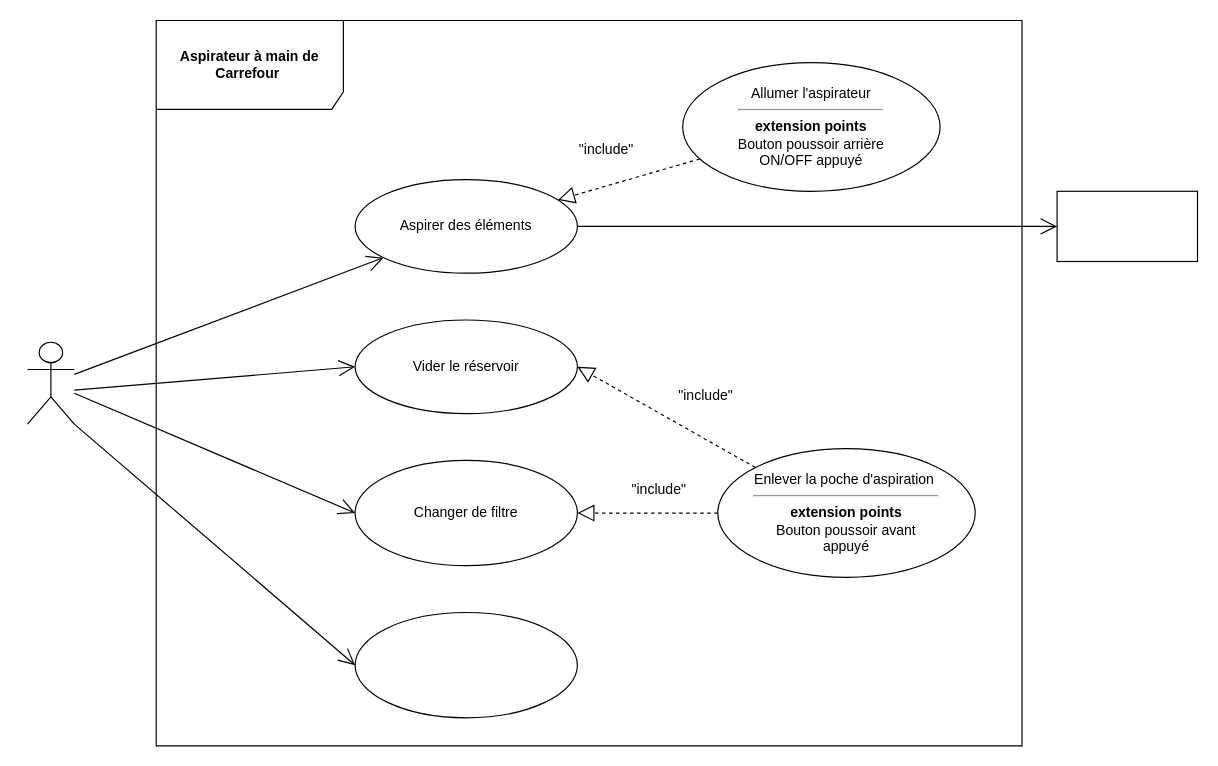
The diagram is 1218 pixels wide and 766 high, and some of its shapes have lost their labels. Here are the shapes that lost their labels. From the top down, the centre of each, then its label:
the point at 1126,225: Poussière, débris, etc...
the point at 50,382: Utilisateur
the point at 465,664: Remplacer la batterie
